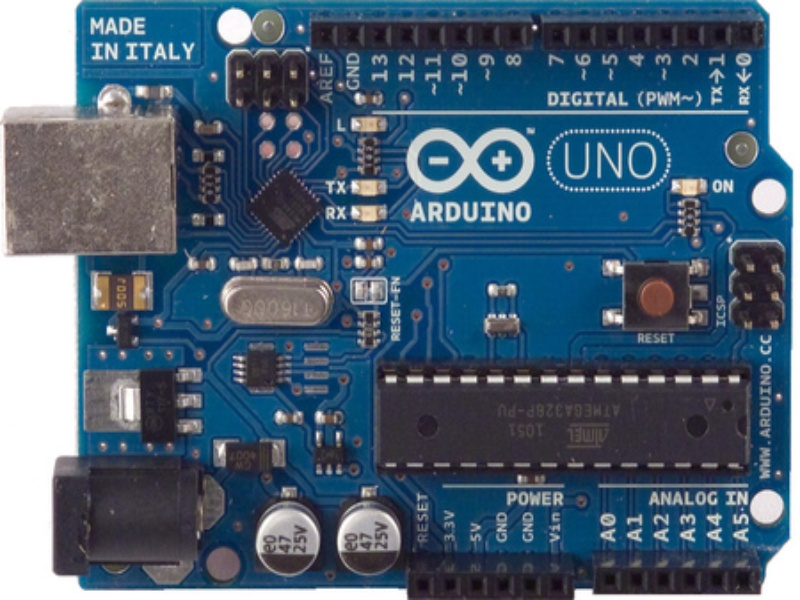uno: (54, 3, 781, 597)
